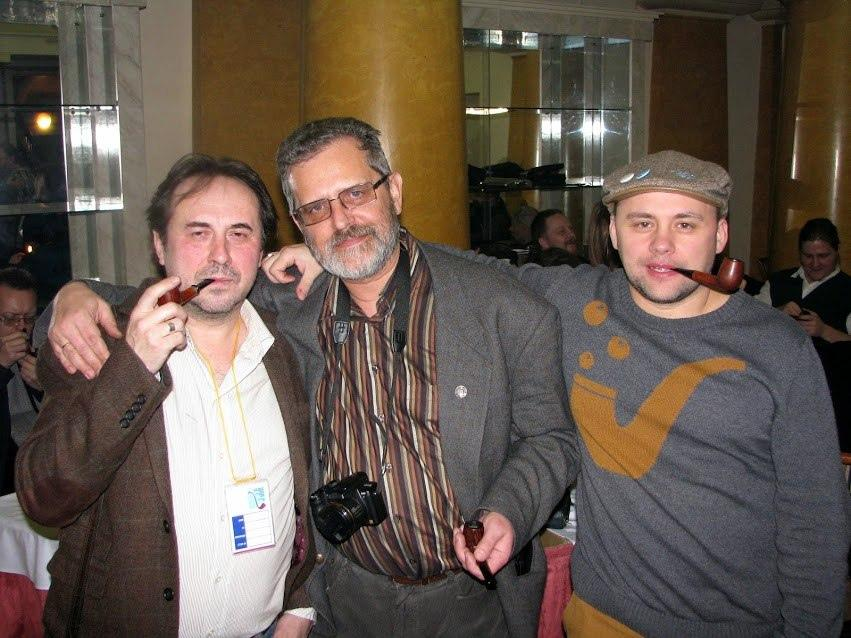trubka: (673, 257, 744, 294), (158, 278, 215, 307)
